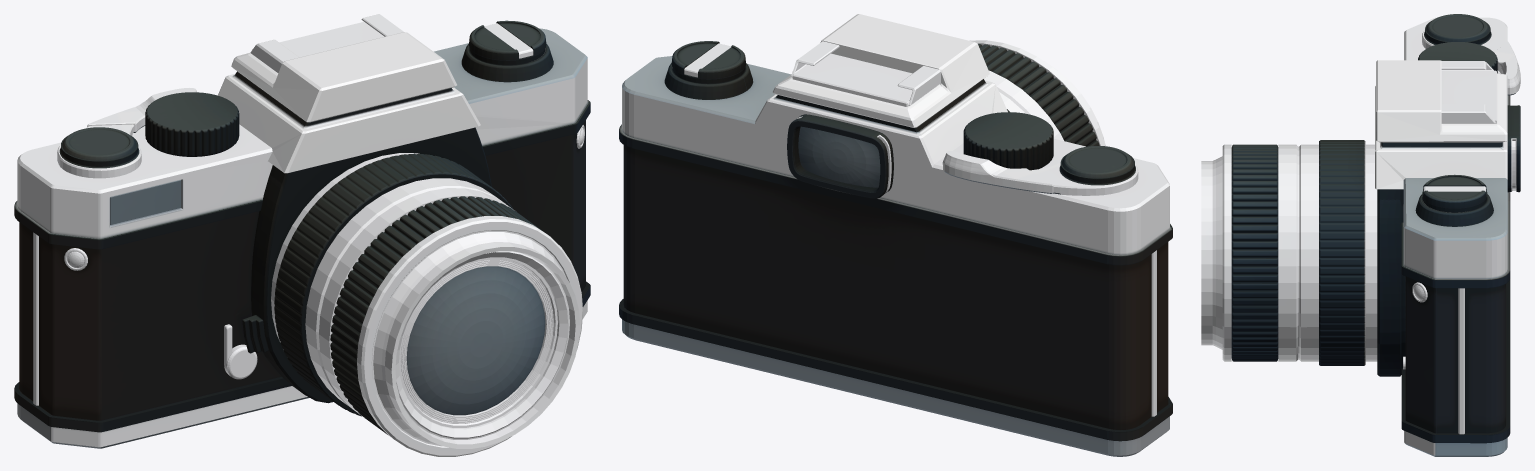
The model's file is camera.gltf.
The picture shows the model from 3 angles, left to right: view 1: azimuth 30°, elevation 25°; view 2: azimuth 150°, elevation 25°; view 3: azimuth 270°, elevation 25°; orthographic projection. The views are drawn at different scales.
Size of the model in its own units: 0.1755 by 0.0999 by 0.1057.
Materials: 1 (1 with a texture image).
